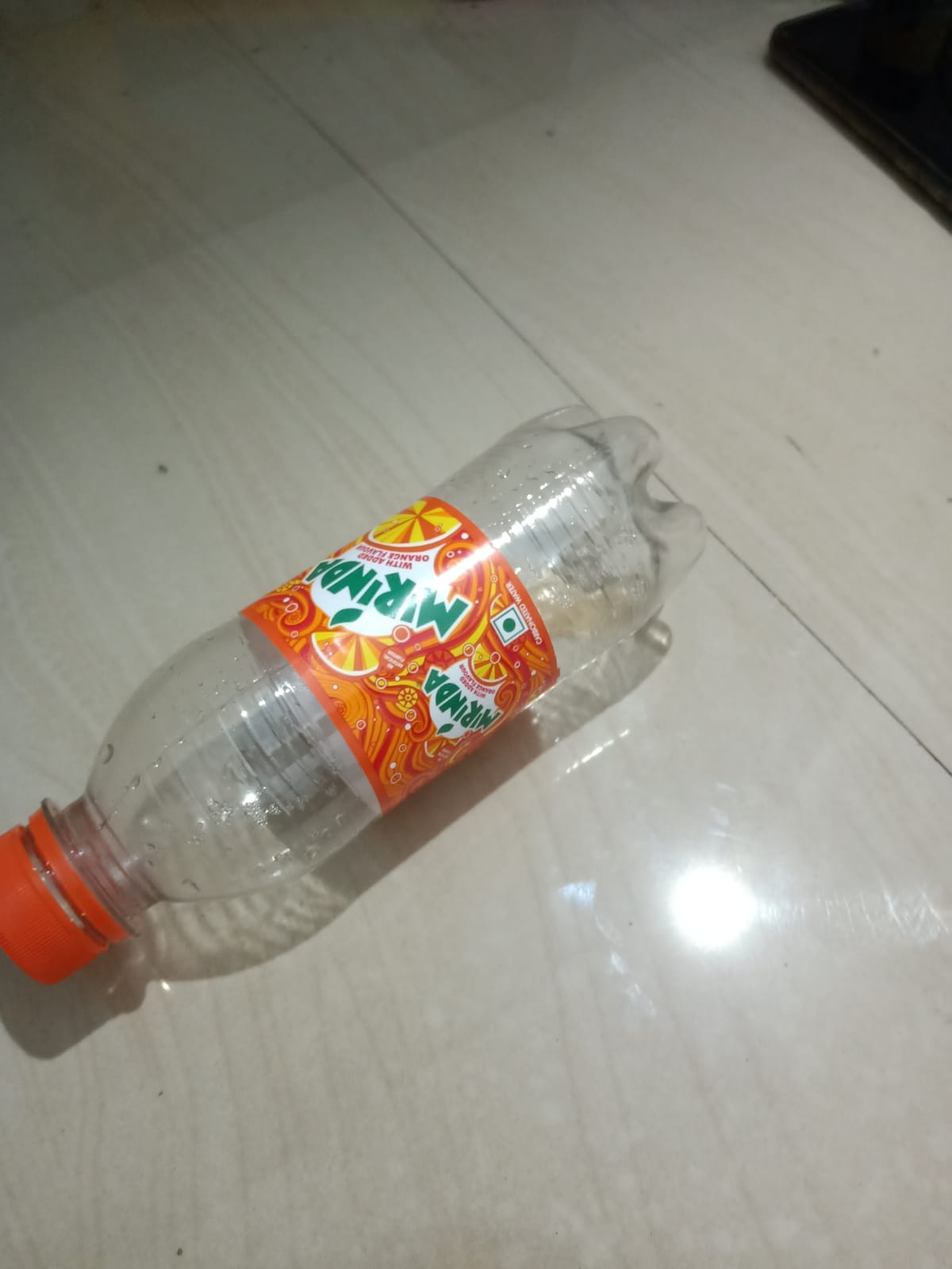plastic: (24, 204, 771, 975)
